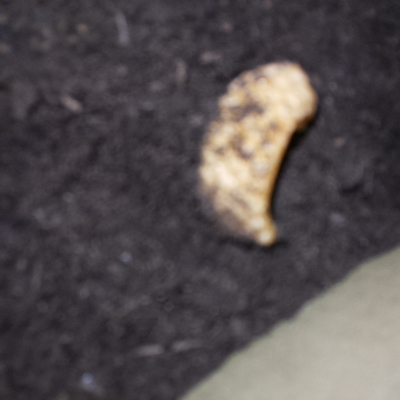eggs: (184, 55, 317, 254)
